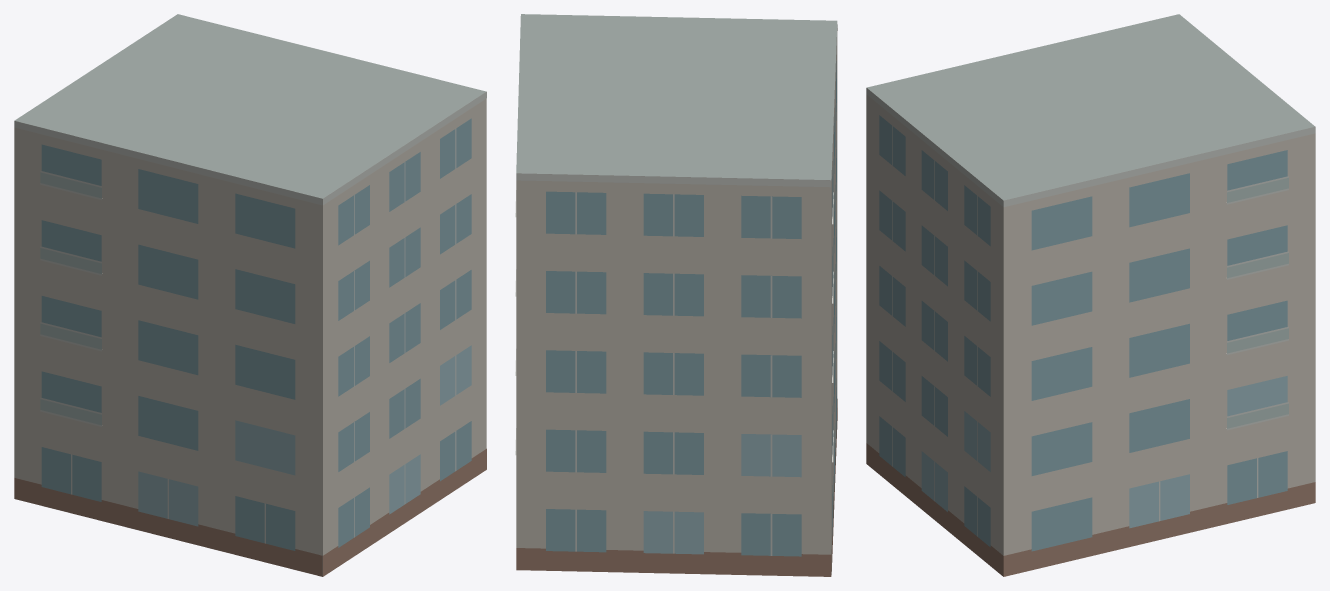
Rendered from survey-upis-32989094.glb.
The picture shows the model from 3 angles, left to right: view 1: azimuth 30°, elevation 25°; view 2: azimuth 150°, elevation 25°; view 3: azimuth 270°, elevation 25°; orthographic projection. The views are drawn at different scales.
Visible parts, largest first — view 1: survey-upis-32989094.tmp; view 2: survey-upis-32989094.tmp; view 3: survey-upis-32989094.tmp.
Boxes of the visible parts, bbox=[...] form: survey-upis-32989094.tmp: bbox=[14, 14, 486, 576]; survey-upis-32989094.tmp: bbox=[515, 14, 837, 576]; survey-upis-32989094.tmp: bbox=[866, 14, 1315, 576].
Bounding box in the file's own units: 14.62 × 13.74 × 14.87.
